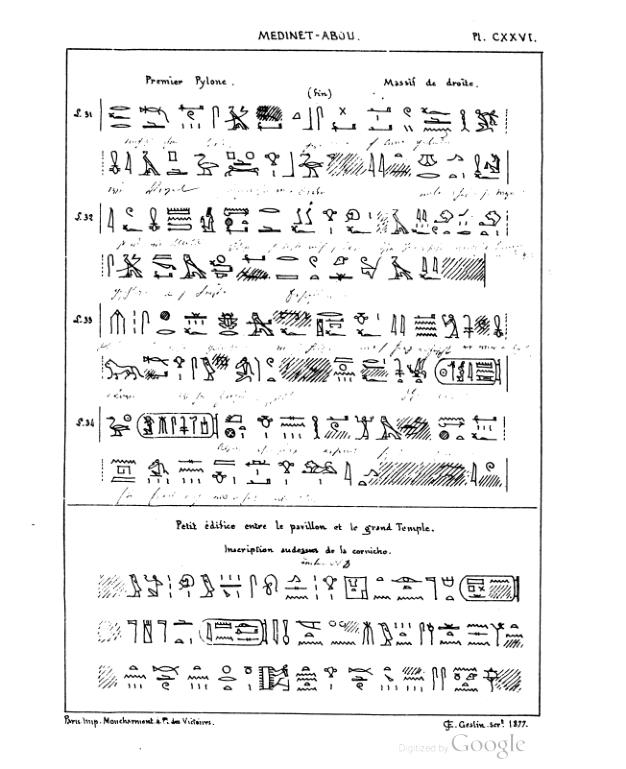circle: (135, 410, 225, 440), (195, 615, 272, 650), (458, 570, 528, 607), (434, 356, 503, 387)
